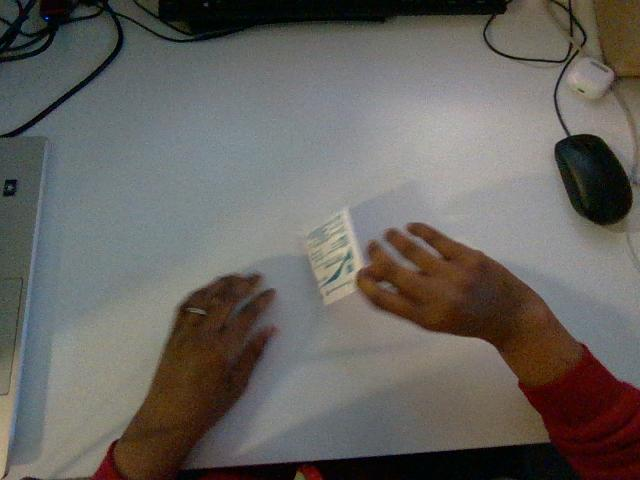gauze: (307, 210, 362, 304)
